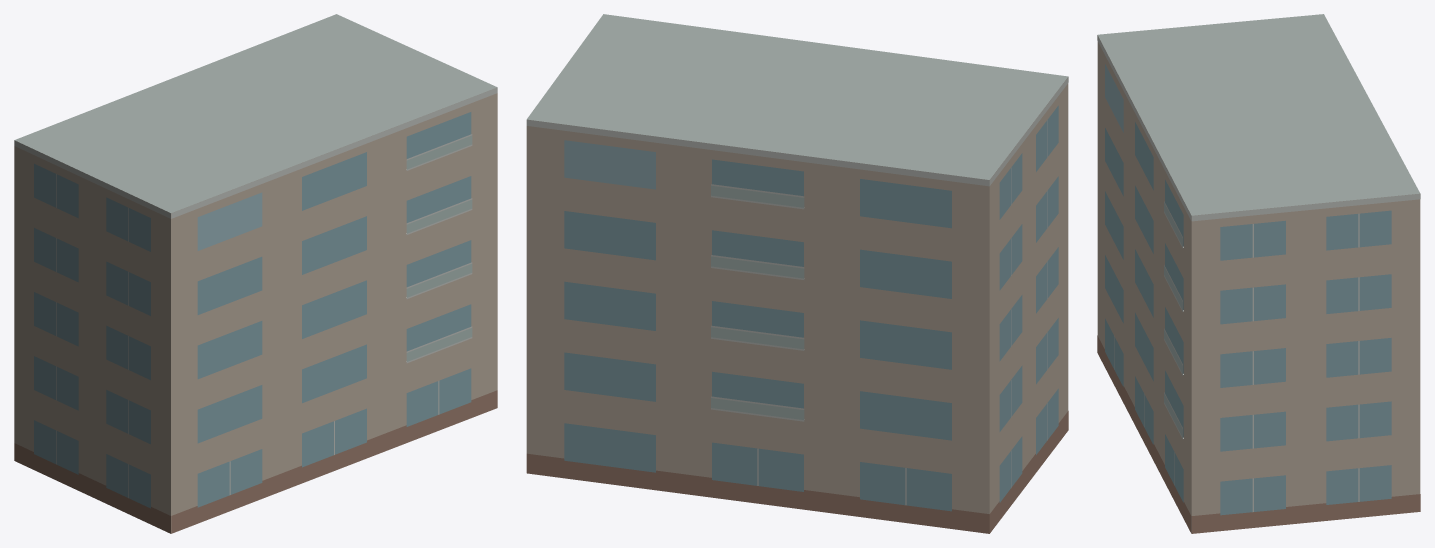
File: survey-upis-32840593.glb
The picture shows the model from 3 angles, left to right: view 1: azimuth 30°, elevation 25°; view 2: azimuth 150°, elevation 25°; view 3: azimuth 270°, elevation 25°; orthographic projection. The views are drawn at different scales.
Parts seen in each view (by area): view 1: survey-upis-32840593.tmp; view 2: survey-upis-32840593.tmp; view 3: survey-upis-32840593.tmp.
Part boxes in pixels (x1,y1,x2,y2): survey-upis-32840593.tmp: [14, 14, 497, 533]; survey-upis-32840593.tmp: [526, 14, 1068, 533]; survey-upis-32840593.tmp: [1097, 14, 1420, 533].
Bounding box in the file's own units: 18.57 × 13.65 × 12.57.
